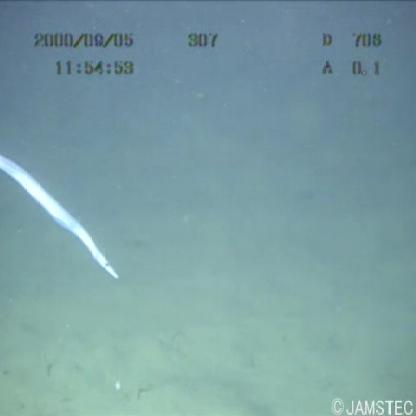Bio: (1, 147, 126, 284)
